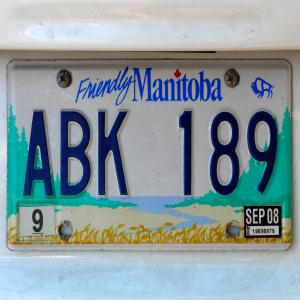Vehicle-registration-plate: (8, 58, 293, 251)
